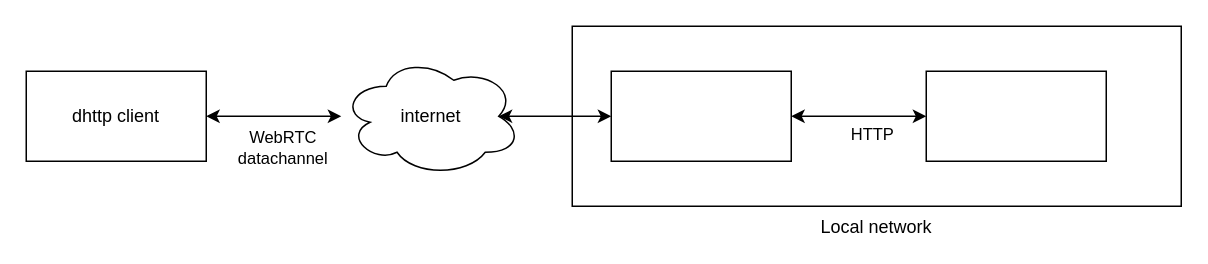
This 1208x264 diagram has some shape labels left out. The box of each missing label's shape, as (x1, y1, x2, y2) in pixels:
dhttp proxy: (610, 70, 791, 161)
myservice: (925, 70, 1106, 161)
